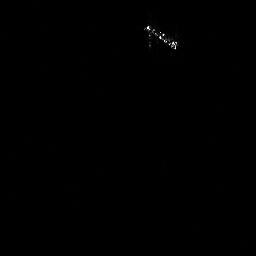ship: (144, 24, 178, 52)
